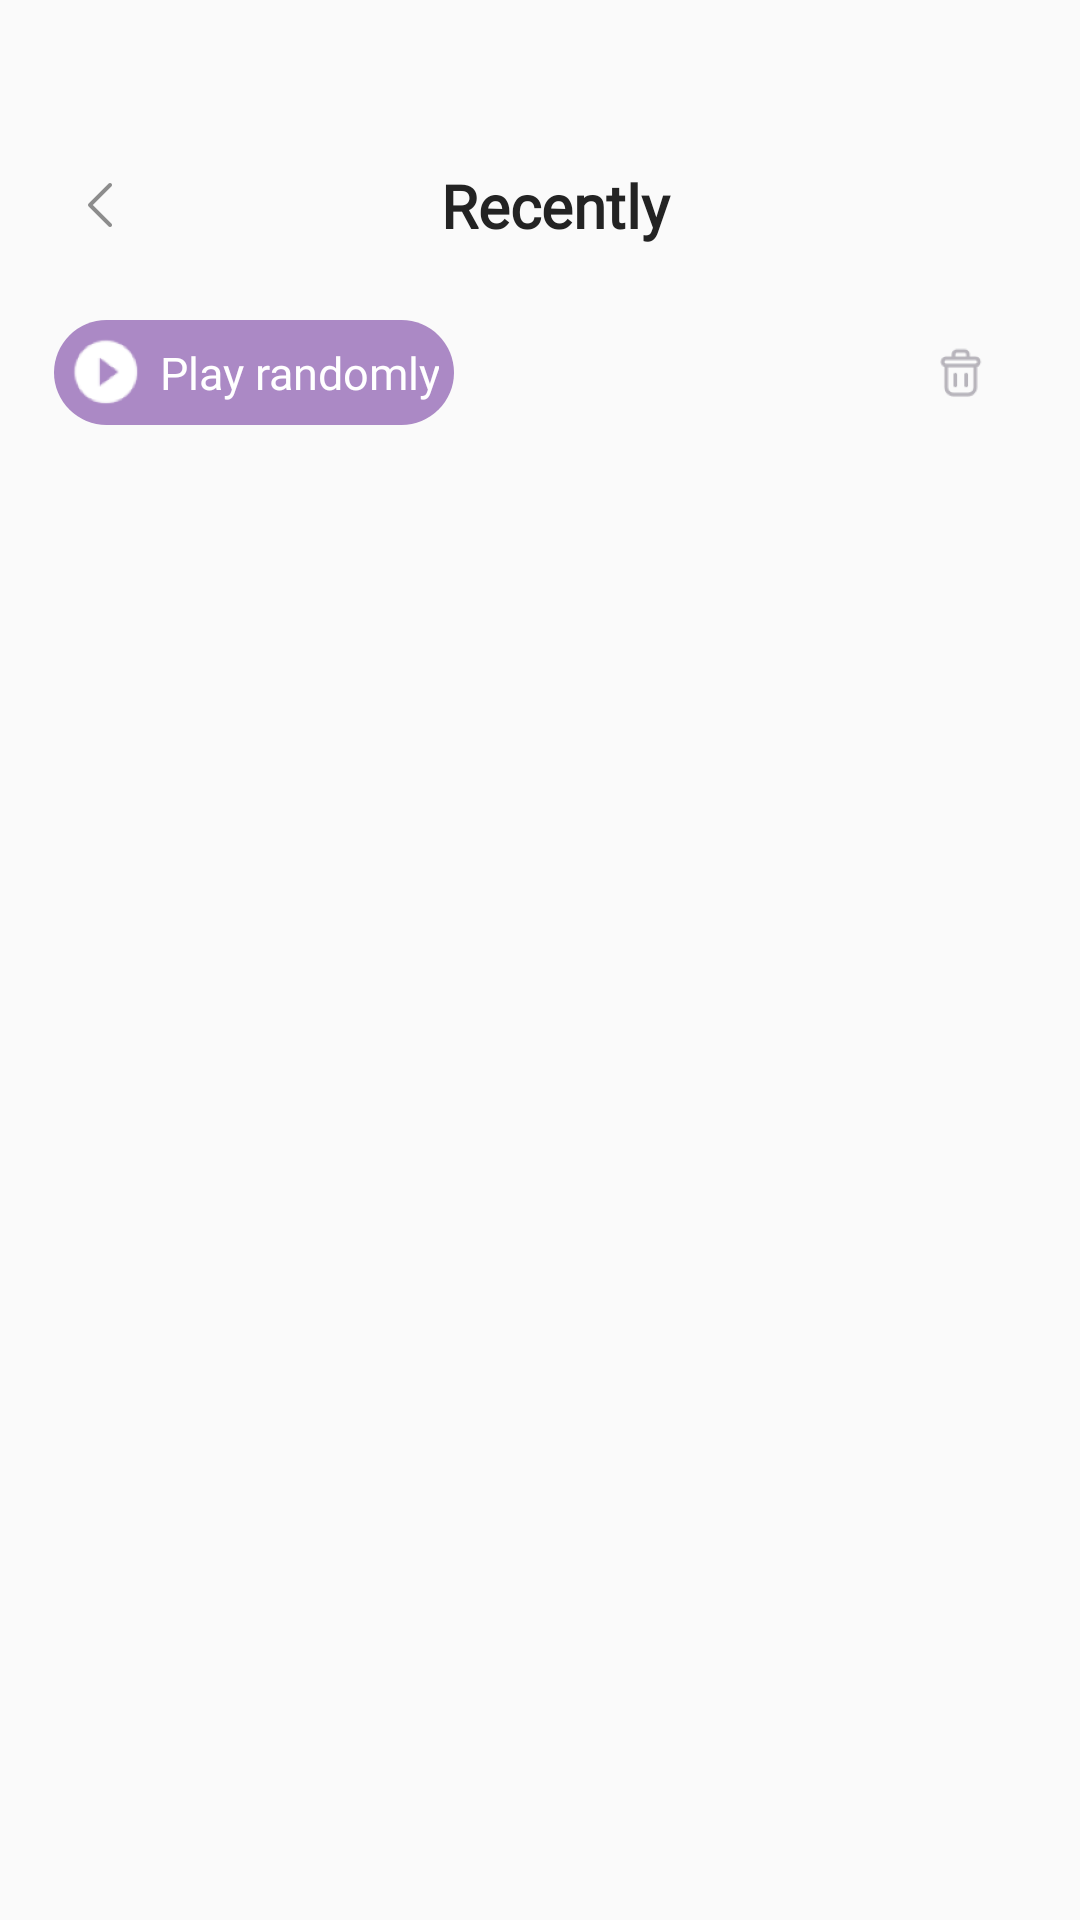

Screen size 1080 × 1920. Icon name, then its box in pixels as (x1, y1, x2, y2):
back: (88, 183, 112, 227)
delete: (941, 349, 981, 397)
